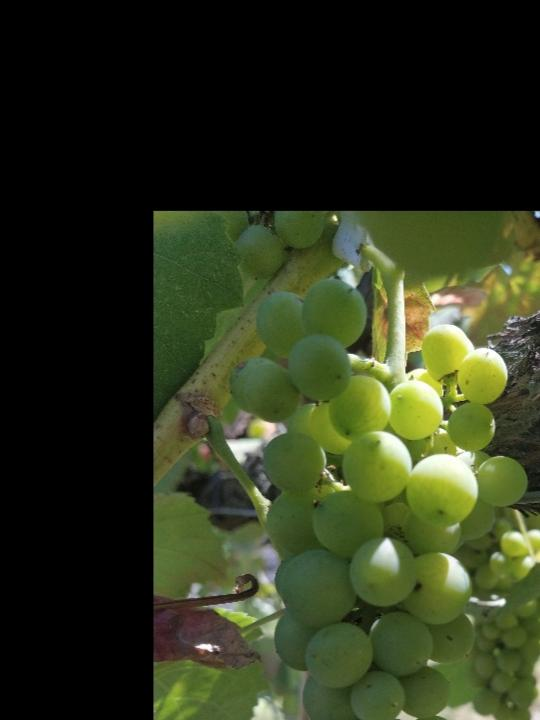grape: (224, 278, 529, 720)
